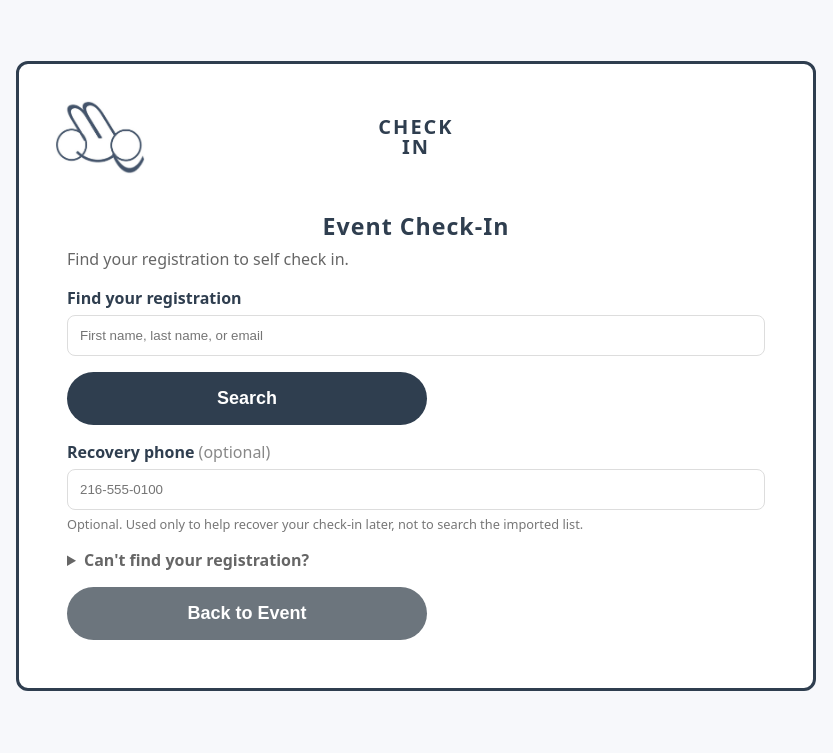
Test case: GuestEventCheckIn › guides imported lookup by name or email and blocks mismatched self-registration email locally
Type "missing@example.com" into the field with placeholder "First name, last name, or email" at {"x": 416, "y": 336}, box [67, 315, 765, 356]
Click the button "Search" at {"x": 247, "y": 399}, box [67, 372, 427, 425]
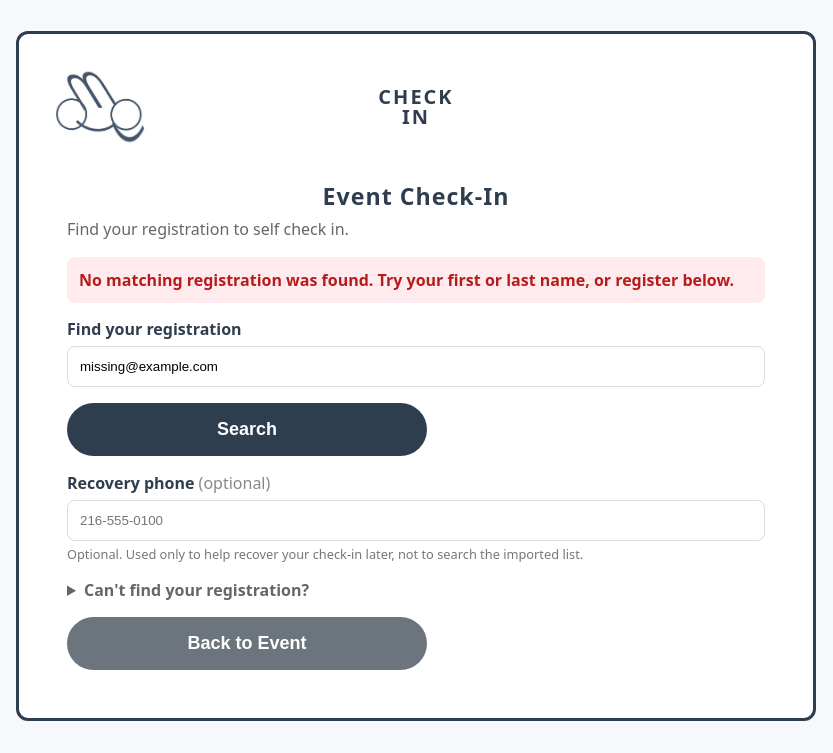
Expected: the text "No matching registration was found. Try your first or last name, or register below." is shown, [79, 269, 734, 291]
Click the heading "Can't find your registration?" at {"x": 196, "y": 590}, box [84, 579, 309, 601]
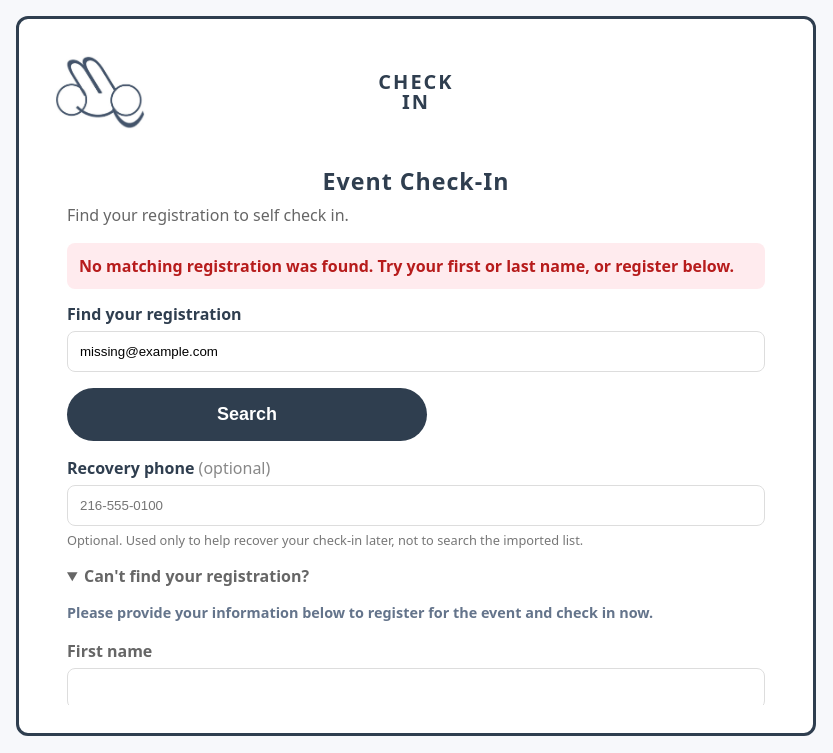
Expected: the text "Please provide your information below to register for the event and check in now." is shown, [67, 603, 653, 622]
Type "Walk" into the field named "First name" at {"x": 416, "y": 688}, box [67, 668, 765, 709]
(page scrolled)
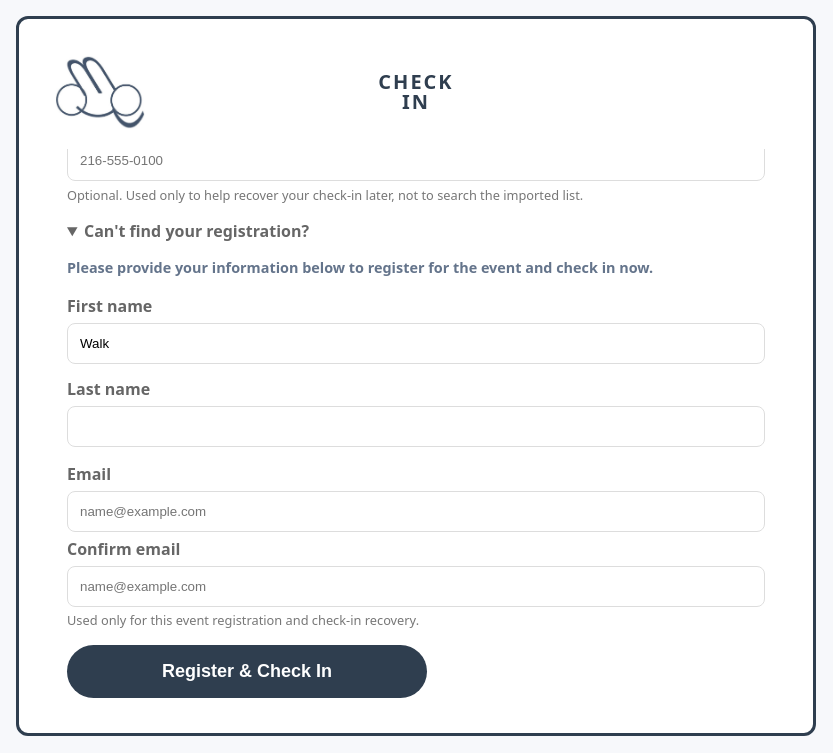
Type "Up" into the field named "Last name" at {"x": 416, "y": 426}, box [67, 406, 765, 447]
Type "walk@example.com" into the field named "Email" at {"x": 416, "y": 512}, box [67, 491, 765, 532]
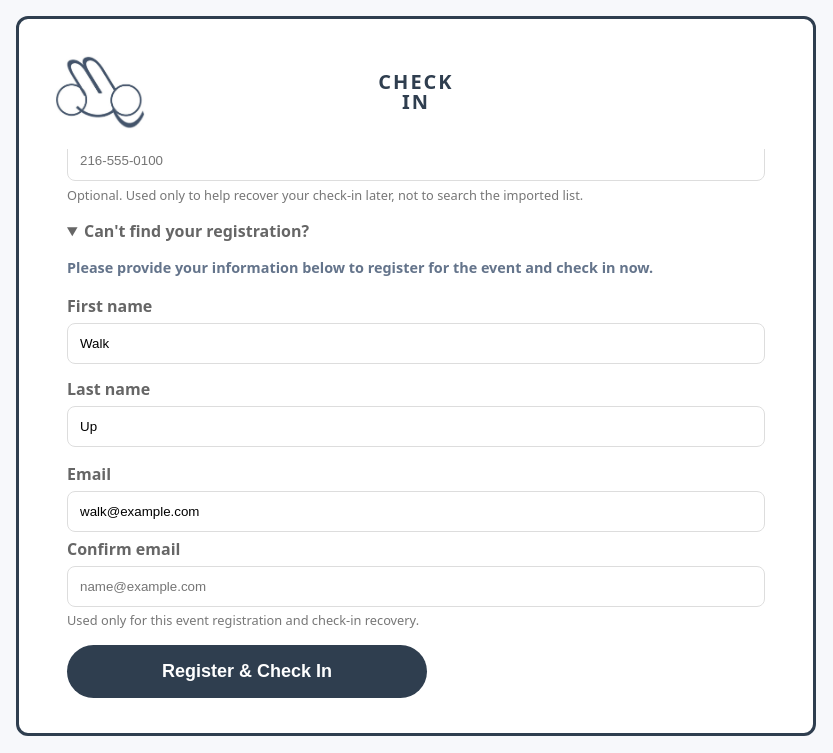
Type "typo@example.com" into the field named "Confirm email" at {"x": 416, "y": 586}, box [67, 566, 765, 607]
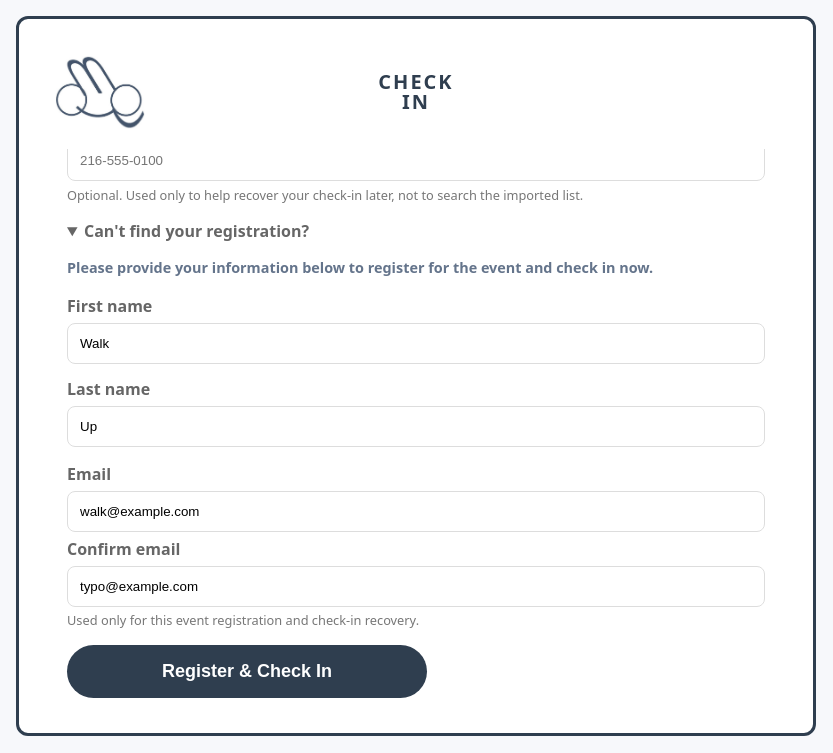
Click the button "Register & Check In" at {"x": 247, "y": 672}, box [67, 646, 427, 698]
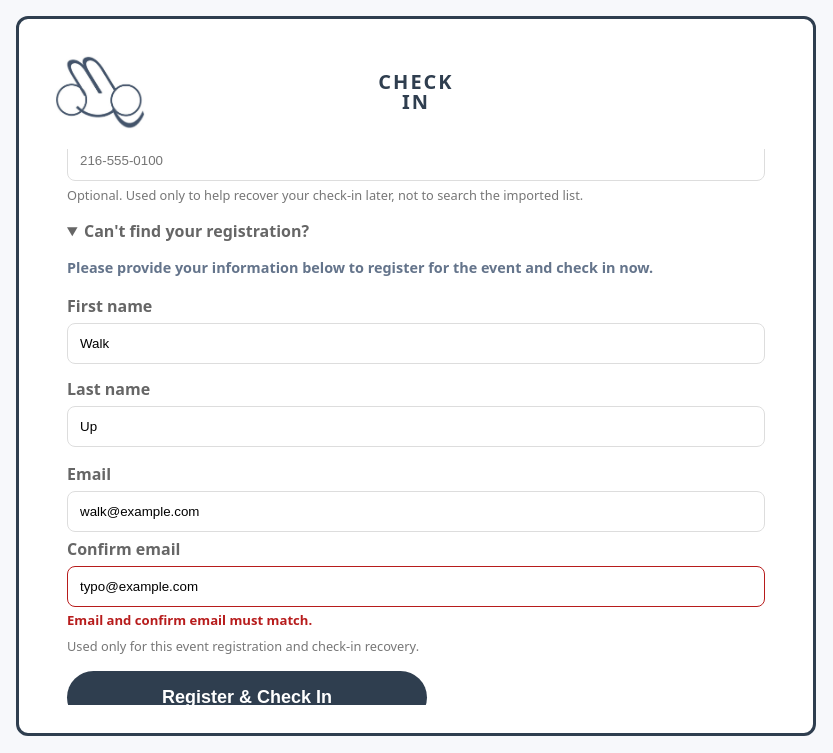
Expected: the text "Email and confirm email must match." is shown, [67, 611, 312, 629]
